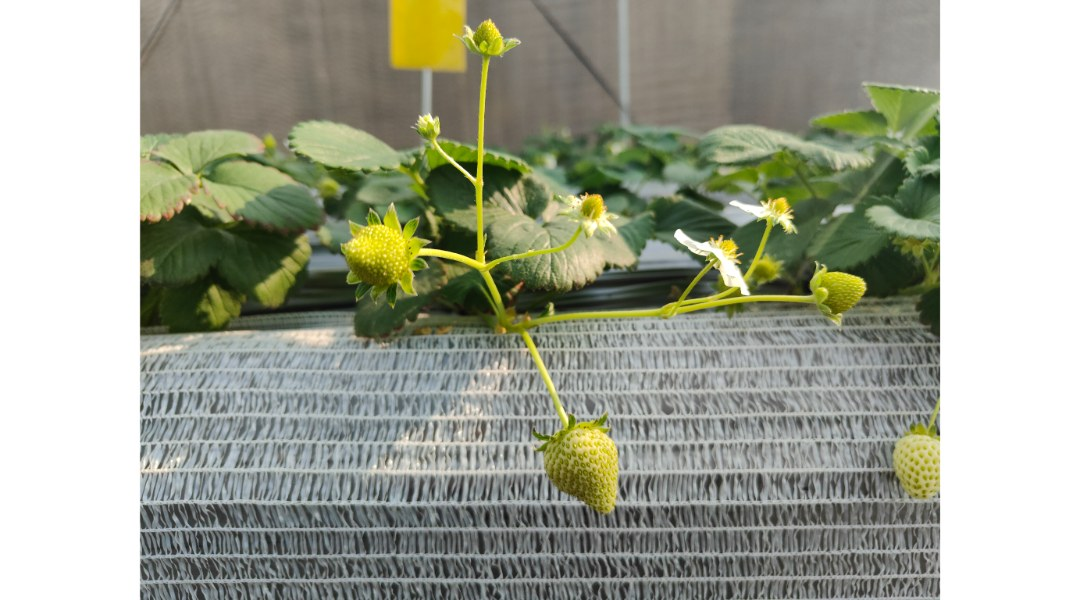berry: (329, 204, 428, 307), (538, 411, 623, 520), (876, 405, 963, 501), (545, 181, 628, 236), (801, 259, 870, 322), (455, 13, 529, 64)
flower: (666, 214, 749, 296), (716, 190, 810, 236), (394, 106, 452, 143)
strain: (470, 60, 500, 256), (524, 329, 580, 423), (507, 232, 572, 274), (531, 307, 661, 327), (693, 290, 819, 308), (418, 246, 478, 273)
